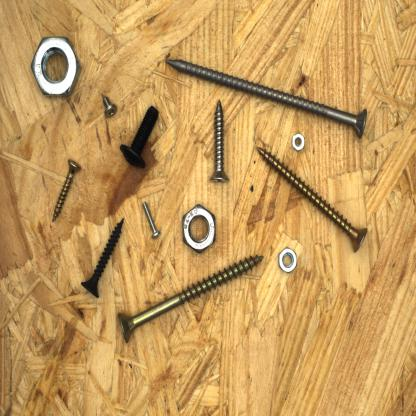screw: (162, 57, 369, 141), (117, 252, 268, 346), (255, 143, 371, 255), (80, 215, 127, 303), (118, 104, 160, 170), (206, 96, 233, 185), (48, 156, 82, 224), (140, 196, 162, 240), (100, 93, 121, 121)
